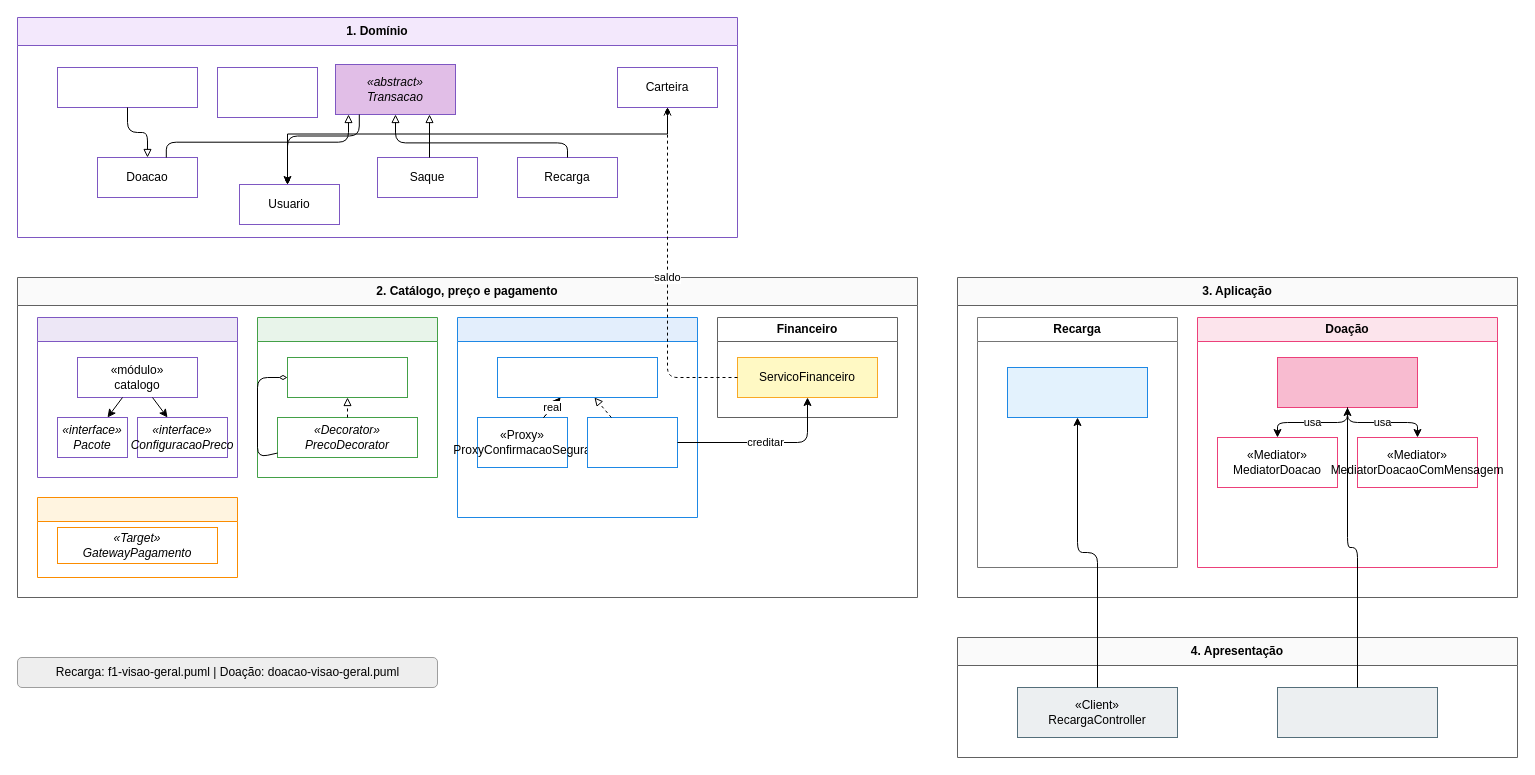
Image size: 1535x775. Some labels were removed from this diagram. The box of each missing label's shape, as (x1, y1, x2, y2) in pixels:
Catálogo: (36, 316, 238, 478)
Confirmação: (456, 316, 698, 518)
DoacaoComMensagem: (56, 66, 198, 108)
Gateway de pagamento: (36, 496, 238, 578)
Preço: (256, 316, 438, 478)
«Client» DoacaoController: (1276, 686, 1438, 738)
«Component» Preco: (286, 356, 408, 398)
«control» ServicoRecarga: (1006, 366, 1148, 418)
«Facade» ServicoDoacao: (1276, 356, 1418, 408)
«RealSubject» ServicoConfirmacao: (586, 416, 678, 468)
«Subject» ConfirmadorPagamento: (496, 356, 658, 398)
«value object» Dinheiro: (216, 66, 318, 118)
